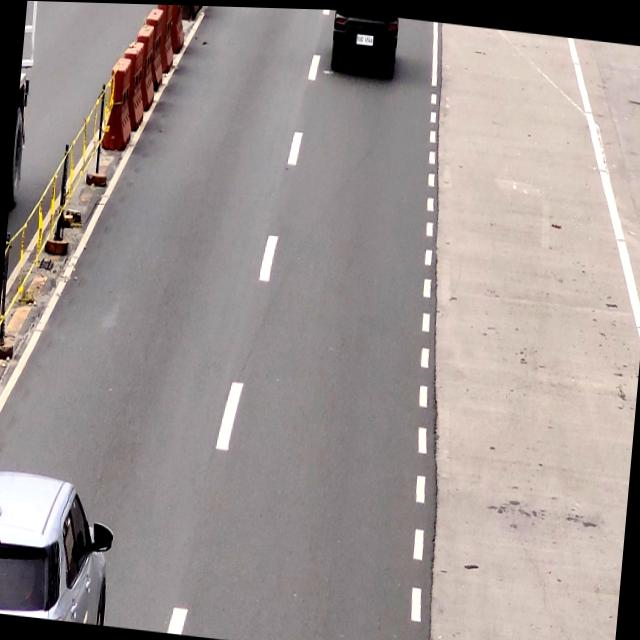Car: (0, 465, 112, 624), (326, 8, 400, 77)
License-Plate: (354, 30, 376, 45)
